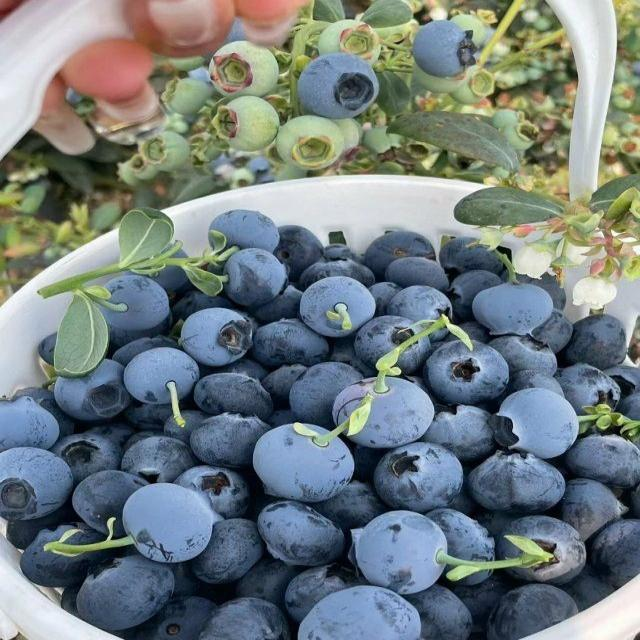blueberry: (123, 484, 221, 563), (253, 425, 353, 502), (355, 511, 446, 594), (76, 556, 174, 630), (333, 378, 434, 448), (298, 586, 420, 639), (489, 389, 578, 459), (374, 442, 462, 512), (496, 516, 585, 585), (468, 451, 564, 513), (20, 524, 110, 587), (257, 501, 343, 566), (424, 341, 508, 404), (298, 54, 378, 119), (0, 447, 71, 520), (72, 470, 146, 537), (487, 584, 577, 639), (101, 275, 170, 346), (54, 360, 131, 422), (289, 362, 361, 428), (191, 519, 263, 584), (300, 277, 374, 337), (285, 564, 361, 622), (123, 347, 199, 404), (190, 413, 269, 467), (422, 405, 495, 462), (472, 283, 552, 335), (559, 479, 627, 540), (180, 309, 252, 366), (565, 435, 639, 488), (174, 466, 249, 518), (209, 41, 278, 97), (135, 591, 215, 639), (275, 115, 344, 170), (313, 480, 387, 531), (562, 314, 628, 370), (251, 320, 328, 368), (199, 598, 289, 639), (413, 20, 476, 77), (450, 573, 510, 632), (426, 509, 494, 561), (224, 249, 286, 306), (121, 436, 196, 483), (194, 374, 272, 419), (406, 585, 471, 639), (353, 316, 419, 369), (51, 435, 122, 484), (236, 556, 301, 609), (5, 502, 77, 549), (364, 231, 434, 278), (590, 520, 639, 587), (555, 364, 619, 415), (0, 397, 59, 452), (11, 388, 74, 437), (209, 210, 279, 252), (318, 20, 381, 64), (274, 225, 322, 281), (489, 336, 556, 376), (449, 271, 501, 321), (439, 237, 503, 277), (561, 564, 614, 610), (298, 260, 374, 291), (387, 286, 451, 322), (385, 257, 448, 291), (112, 336, 178, 367), (328, 336, 377, 377), (229, 211, 278, 251), (251, 286, 302, 323), (262, 365, 306, 406), (531, 309, 572, 353), (172, 291, 231, 321), (518, 274, 566, 310), (503, 370, 563, 397), (163, 411, 209, 444), (123, 404, 172, 434), (446, 477, 481, 518), (147, 266, 189, 300), (207, 358, 268, 380), (477, 511, 525, 538), (84, 423, 135, 448), (353, 445, 386, 482), (451, 15, 489, 46), (604, 365, 639, 397), (369, 282, 401, 316), (169, 562, 199, 597), (123, 431, 159, 451), (458, 321, 490, 343), (322, 244, 361, 262), (60, 585, 80, 618), (616, 393, 639, 420), (38, 333, 56, 365), (266, 409, 295, 427)
